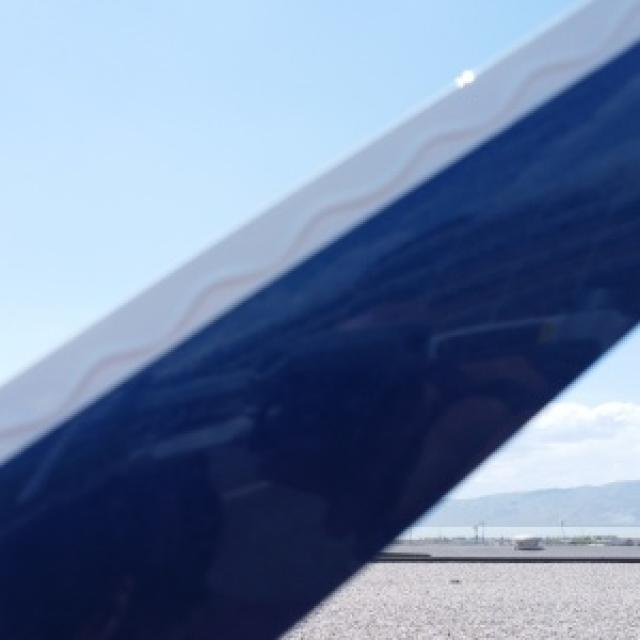healthy: (0, 128, 198, 333)
